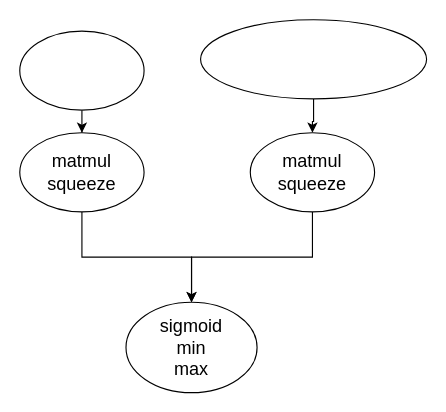
Some shapes in this 446 by 412 pixel diagram are drawn without their labels. Here are the shapes that lost their labels. From the top down, the centre of each, then its label:
point (81, 70): matmul prelu
point (313, 59): dnn_layer_bottom_half
